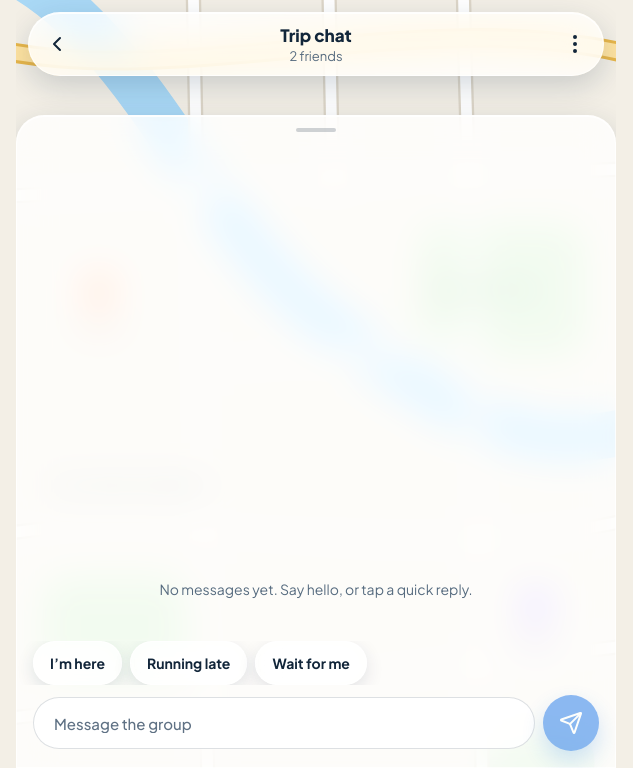
Test: Trip chat › says when a message wasn’t sent and retries it as the same message
Type "Hello" into the field labelled "Message" at (284, 723), box [33, 697, 535, 749]
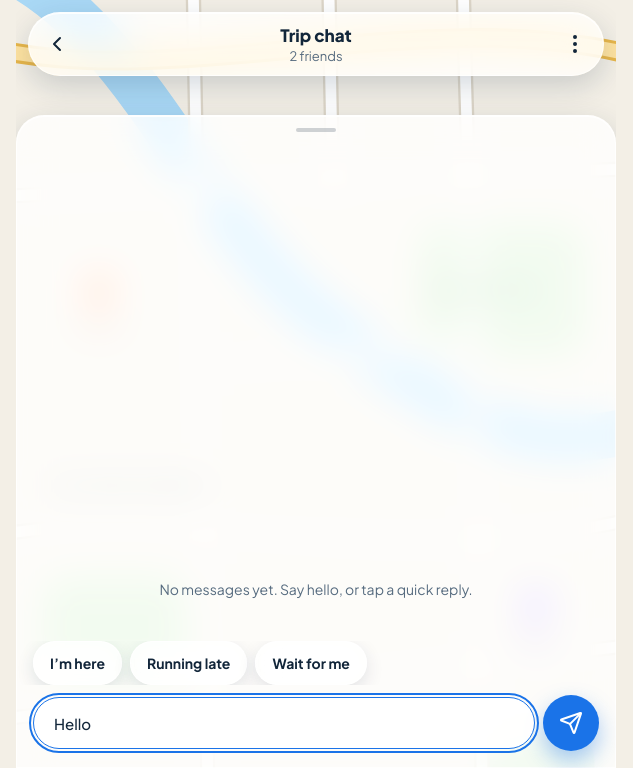
Click the button named "Send" at (571, 723), box [543, 695, 599, 751]
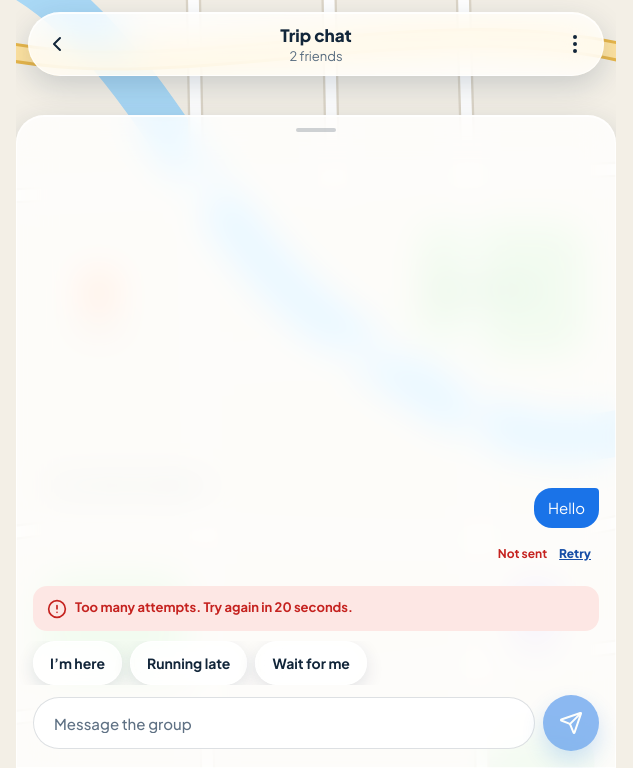
Now the text "Not sent" is shown, box [498, 546, 547, 561]
Now the text "Too many attempts. Try again in 20 seconds." is shown, box [75, 598, 353, 616]
Click the button "Retry" at (575, 554), box [551, 532, 599, 576]
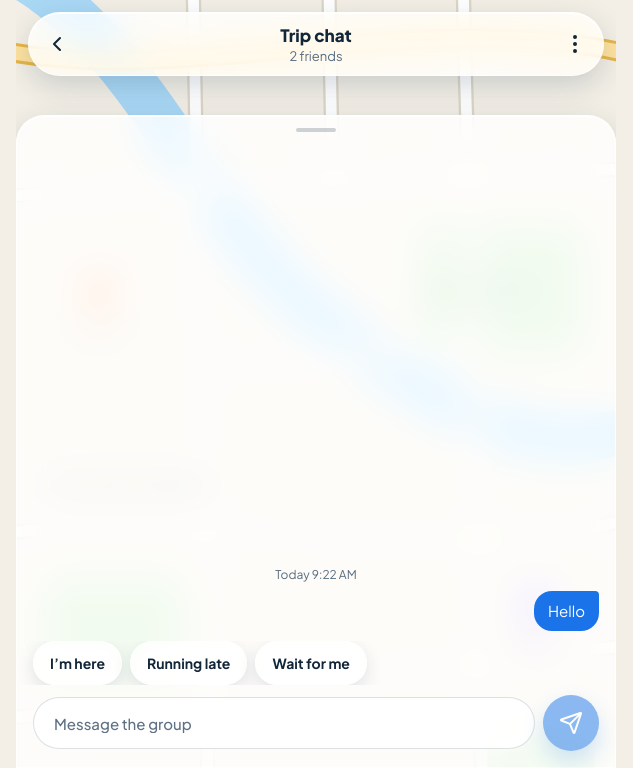
Now the text "Not sent" is gone
